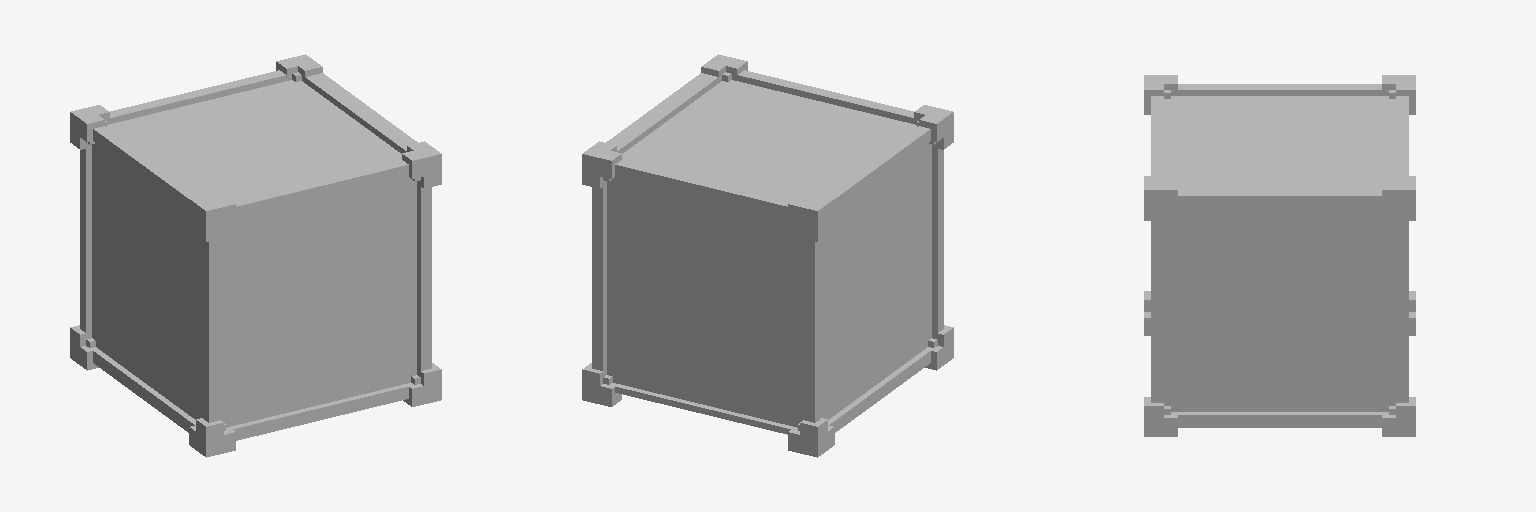
File: player.obj
3 views of the same model, side by side, from view 1: azimuth 30°, elevation 25°; view 2: azimuth 150°, elevation 25°; view 3: azimuth 270°, elevation 25° (orthographic).
Visible parts, largest first — view 1: object 1; view 2: object 1; view 3: object 1.
Part boxes in pixels (x1,y1,x2,y2): object 1: (70,54,441,457); object 1: (582,54,953,457); object 1: (1144,75,1415,436).
Size of the model in its own units: 4 by 4 by 4.